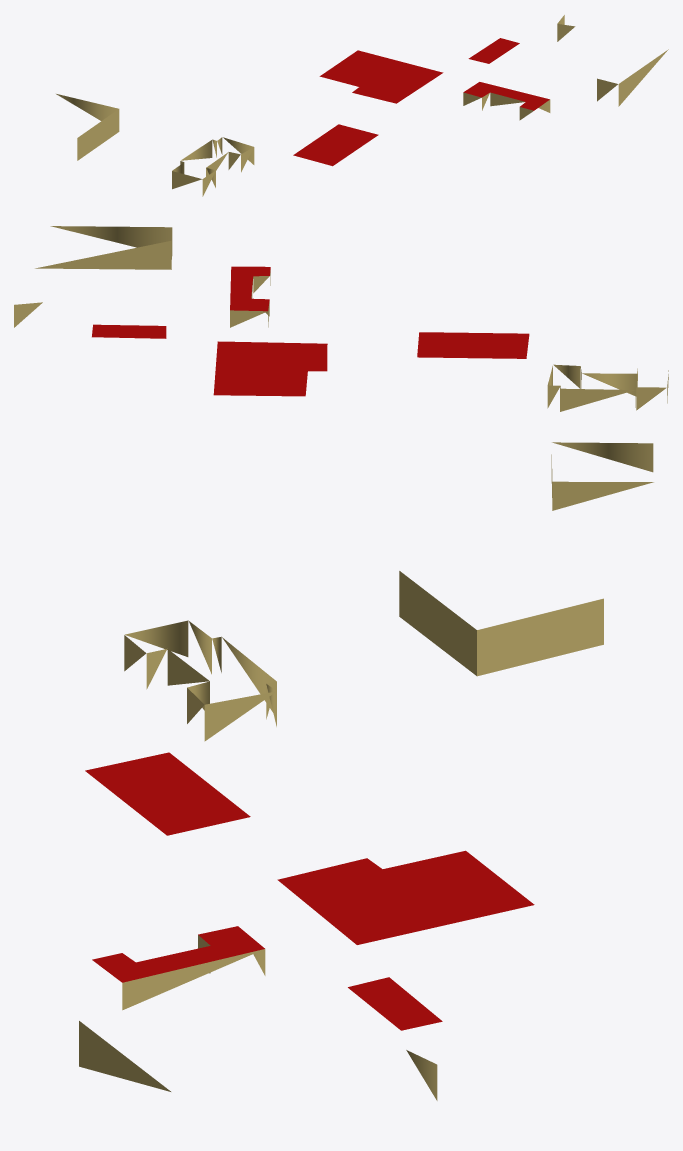
The picture shows the model from 3 angles, top to bottom: view 1: azimuth 30°, elevation 25°; view 2: azimuth 150°, elevation 25°; view 3: azimuth 270°, elevation 25°; orthographic projection. The views are drawn at different scales.
Size of the model in its own units: 321 by 12.5 by 129.
